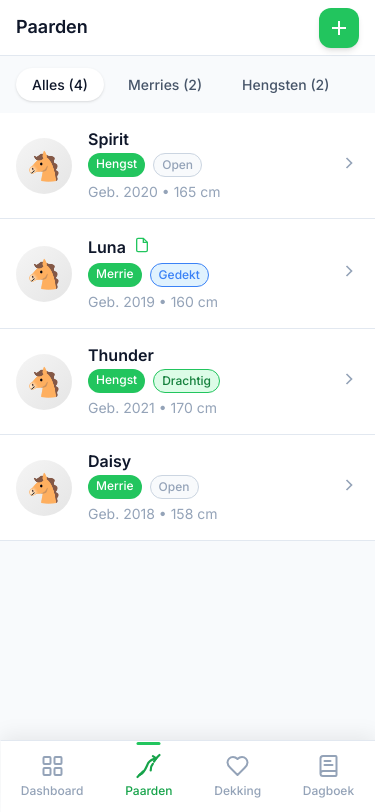
Test case: Horses Overview Page › Filtering › should filter to show only stallions when clicking Hengsten
Click the button "Hengsten (2)".
click(286, 85)  # box [226, 68, 345, 101]
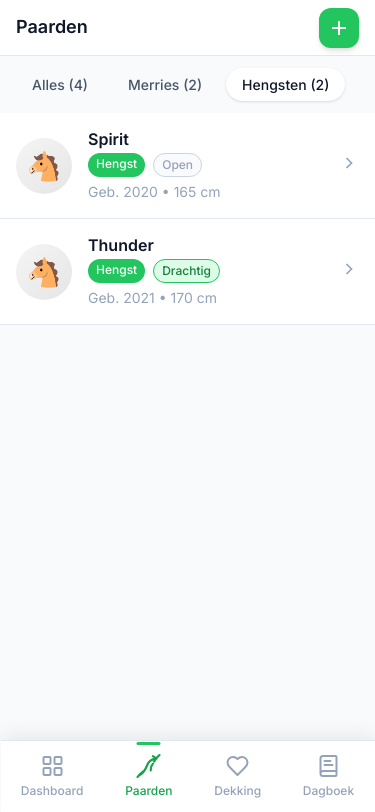
Expected: the link "🐴 Spirit Hengst Open Geb. 2020 • 165 cm" is shown, [0, 113, 374, 219]
Now the link "Luna" is gone
